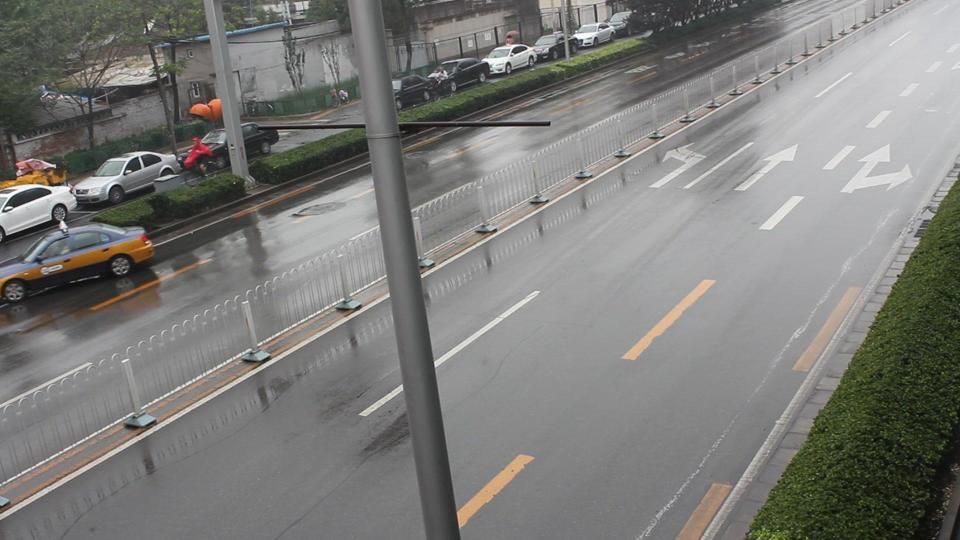car: (1, 223, 158, 305), (67, 153, 187, 205), (0, 183, 78, 243), (199, 123, 281, 158), (432, 57, 491, 92), (482, 44, 538, 77), (532, 32, 575, 61), (572, 22, 616, 49)
person: (337, 88, 350, 105)
